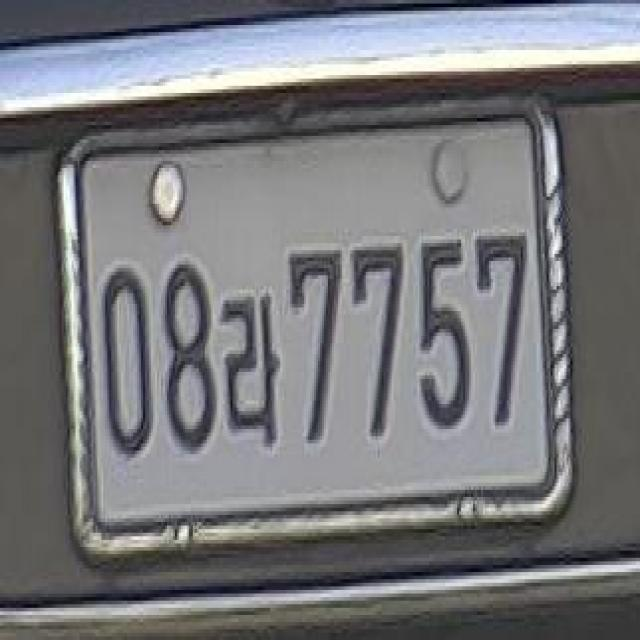illegal_plate: (63, 99, 568, 556)
